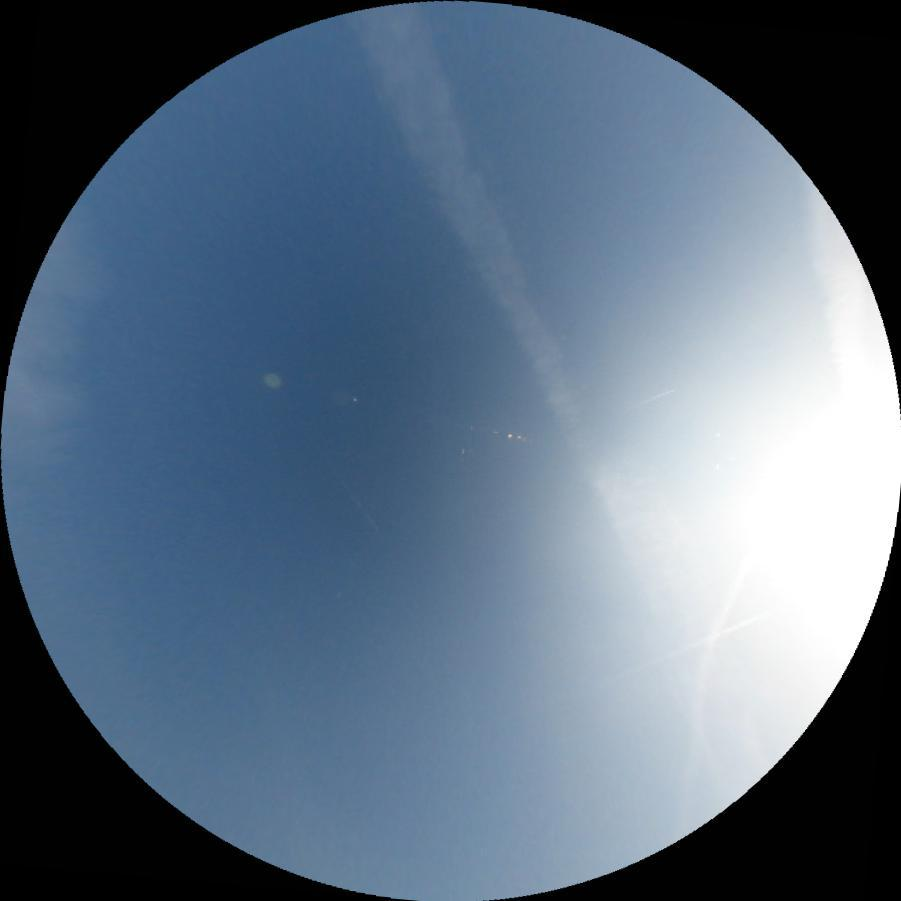contrail old: (661, 547, 752, 835)
contrail veryold: (801, 173, 898, 422)
contrail young: (584, 615, 760, 691), (327, 459, 378, 530), (630, 387, 674, 408)
